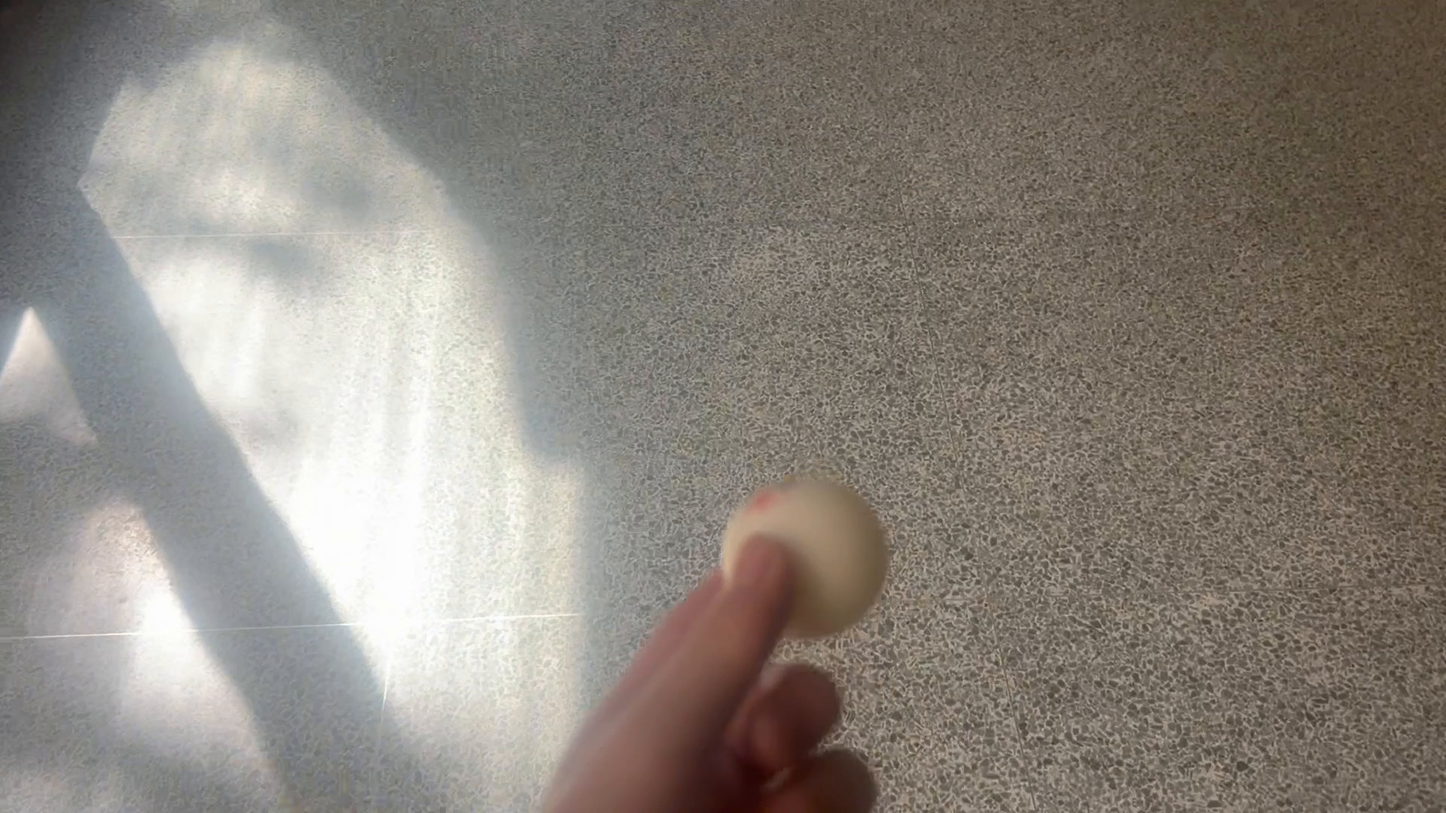Ball: (723, 474, 877, 628)
